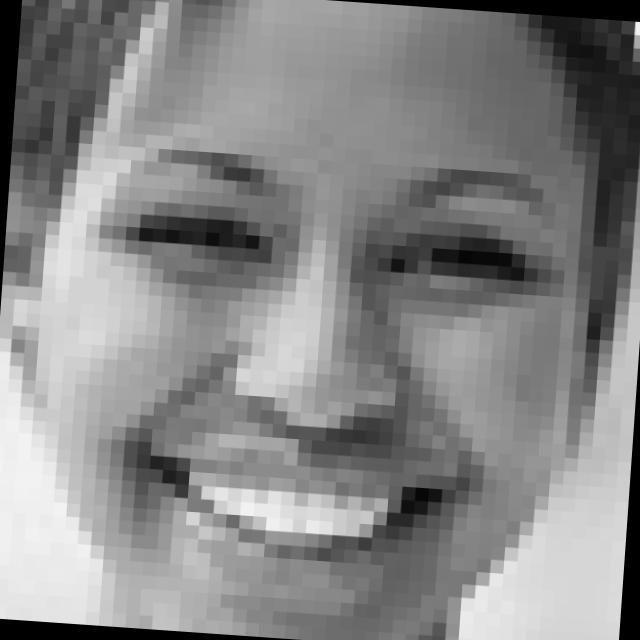happy: (62, 136, 565, 633)
